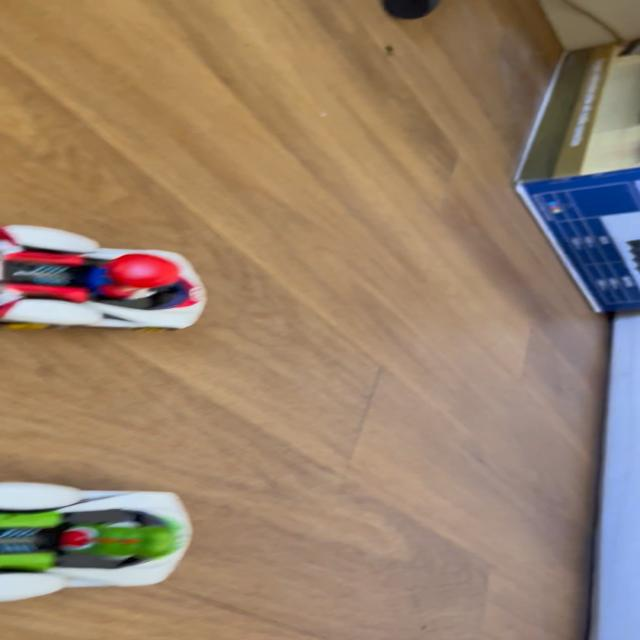mario: (3, 220, 236, 341)
yoshi: (0, 469, 211, 611)
